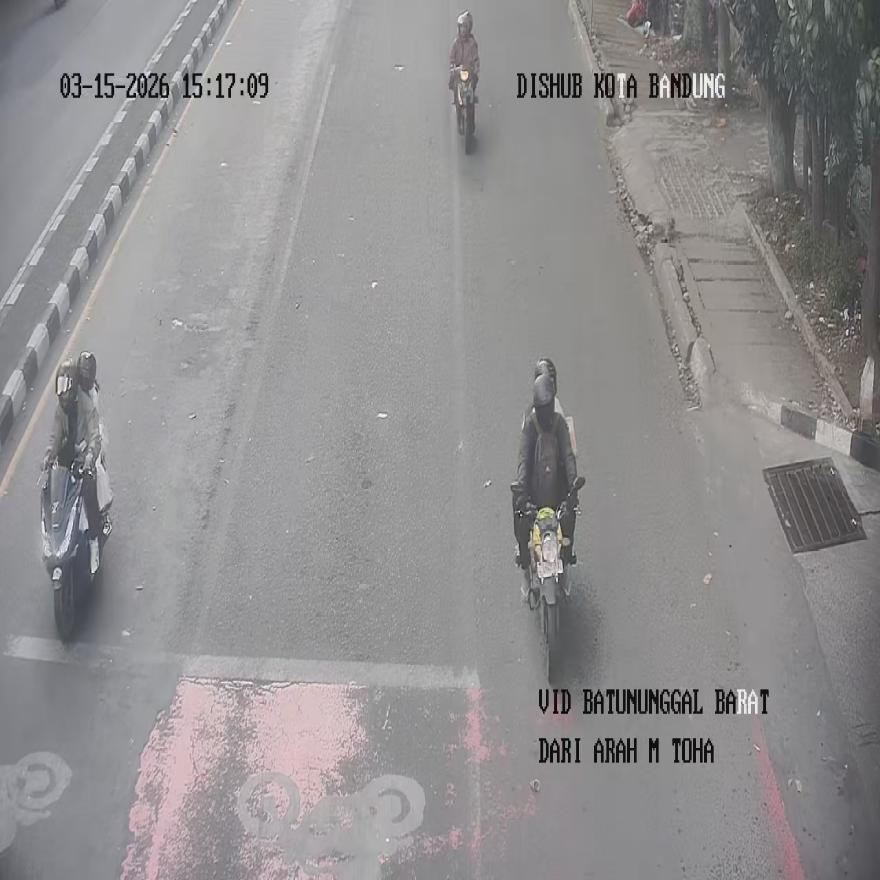Motor: (520, 476, 585, 684), (42, 461, 101, 641), (453, 65, 477, 154)
